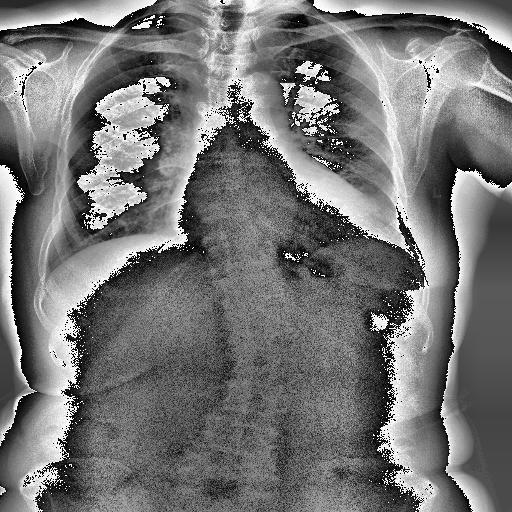0- Aortic enlargement: (231, 74, 285, 126), (236, 72, 284, 108)
3- Cardiomegaly: (171, 167, 386, 242), (172, 175, 384, 240), (164, 186, 376, 246)
